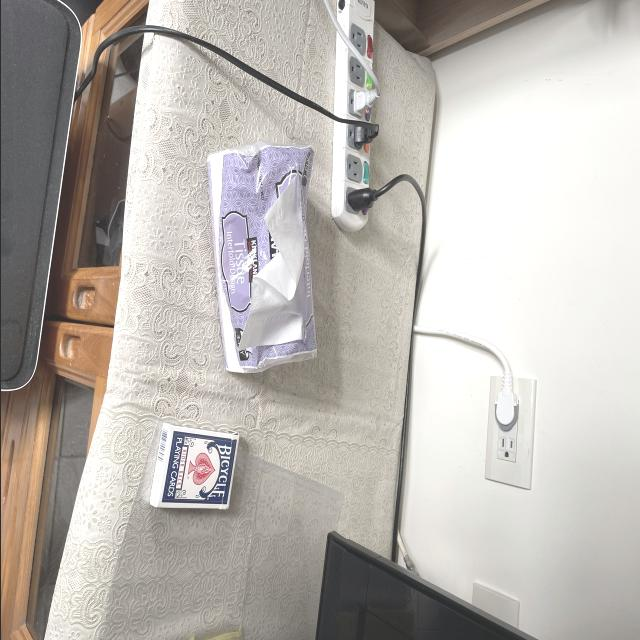tissue: (202, 140, 320, 379)
